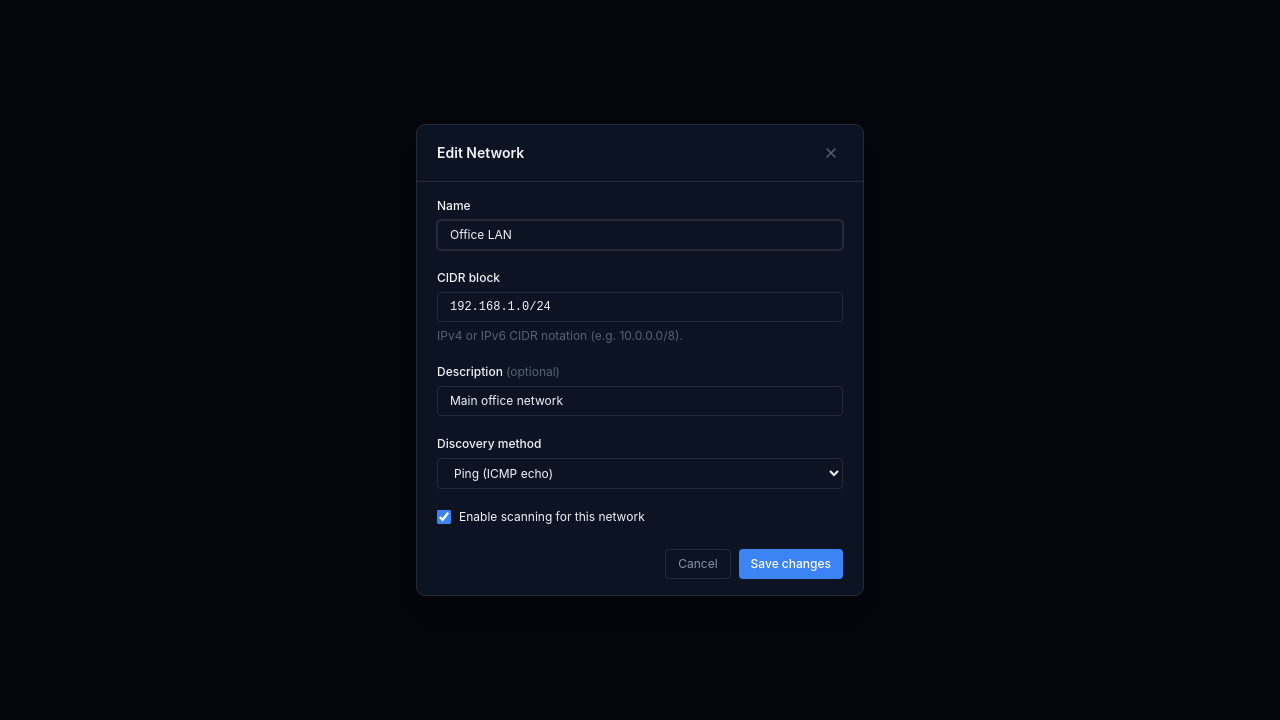
Scenario: EditNetworkModal › shows a validation error when CIDR is invalid
Type "not-valid-cidr" into the field labelled "CIDR block" at x=640, y=307, box 437,292 -> 843,322
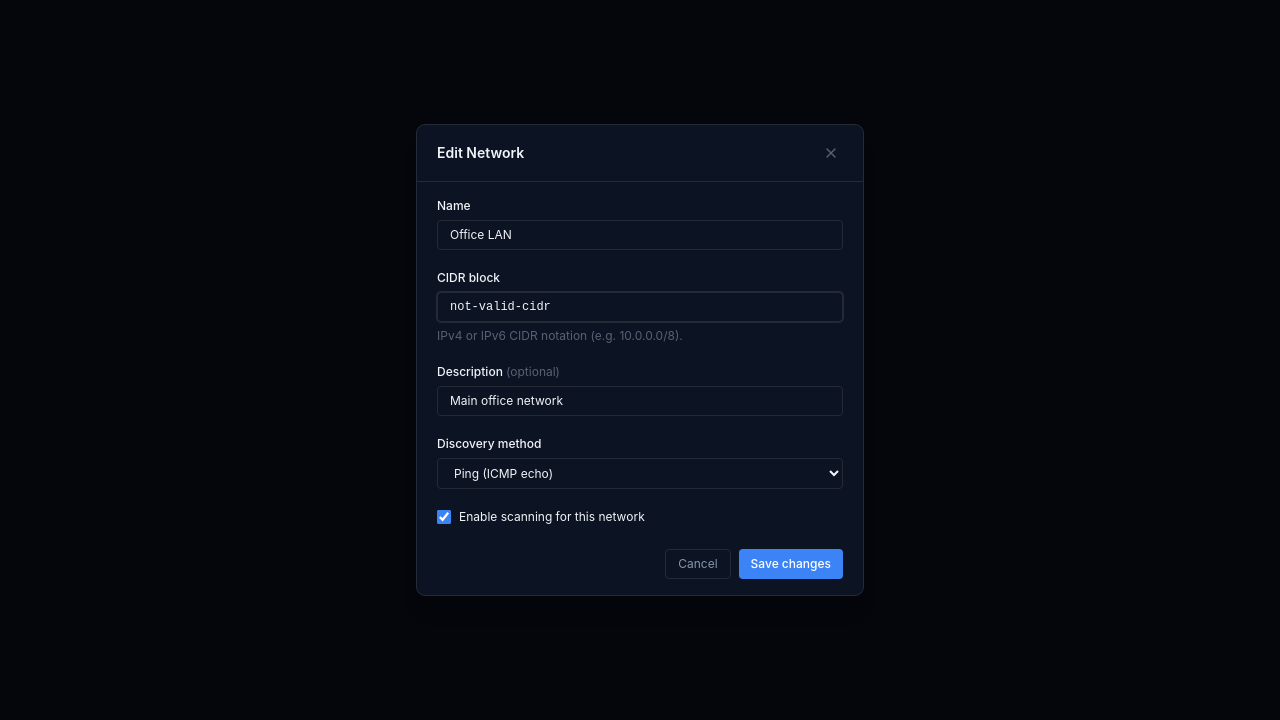
Click the button "Save changes" at x=791, y=564, box 739,549 -> 843,579
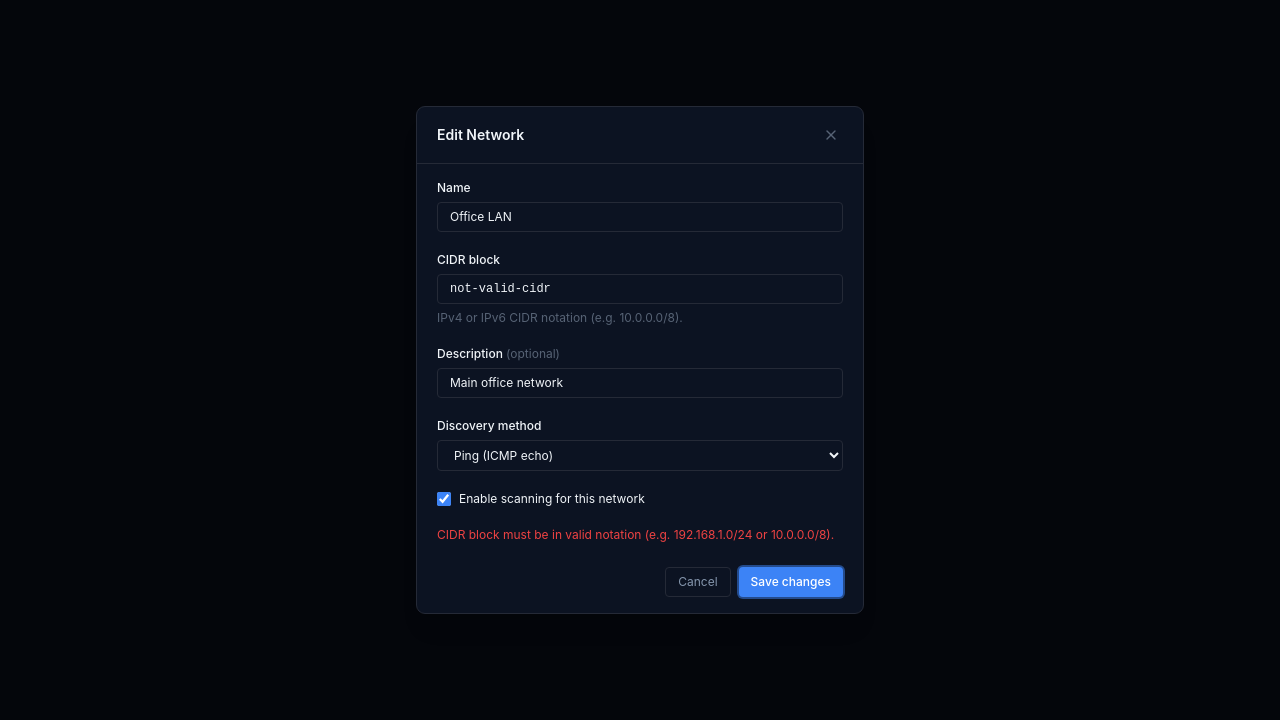
Expected: the text "CIDR block must be in valid notation (e.g. 192.168.1.0/24 or 10.0.0.0/8)." is shown, 437,527 -> 843,543
